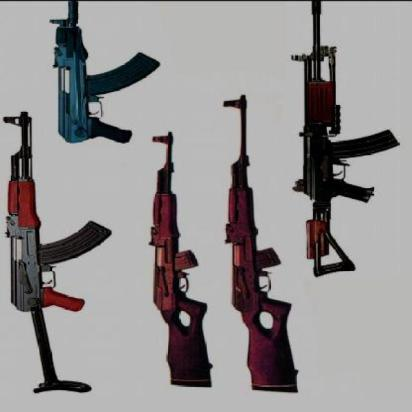Gun: (0, 109, 111, 400), (293, 0, 398, 280), (220, 93, 305, 391), (137, 125, 216, 392), (44, 0, 162, 145)
